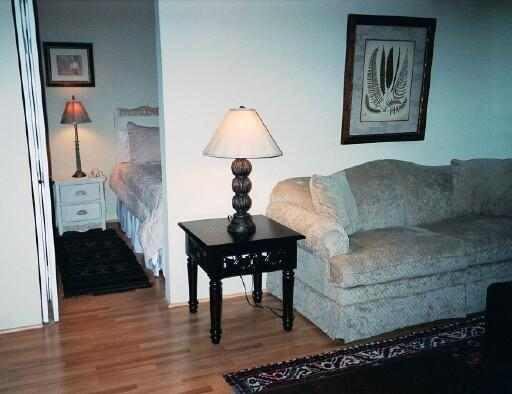Cama: (120, 119, 163, 271)
